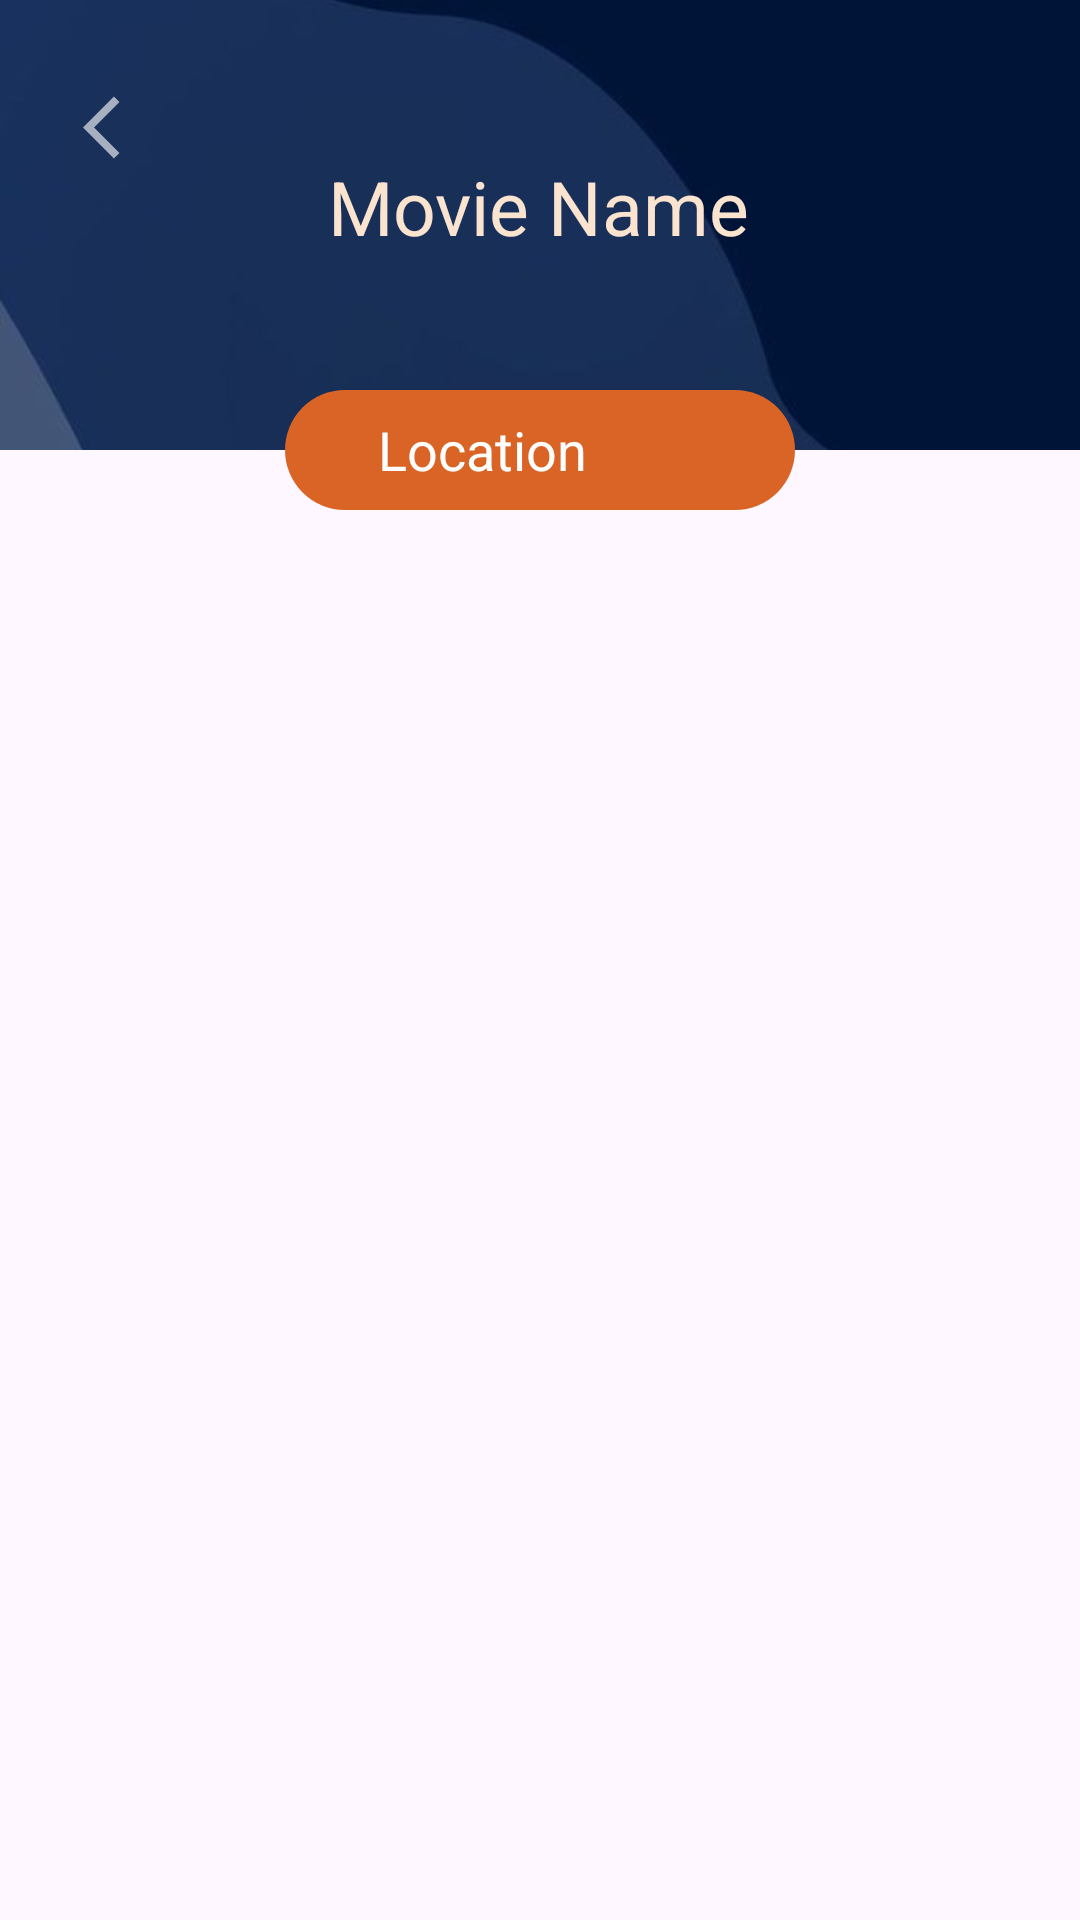

Icons on this 1080*1920 Android screen, each with its box as {"left": x1, "top": y1, "right": x2, "bottom": y2}:
backarrow: {"left": 83, "top": 97, "right": 119, "bottom": 158}
